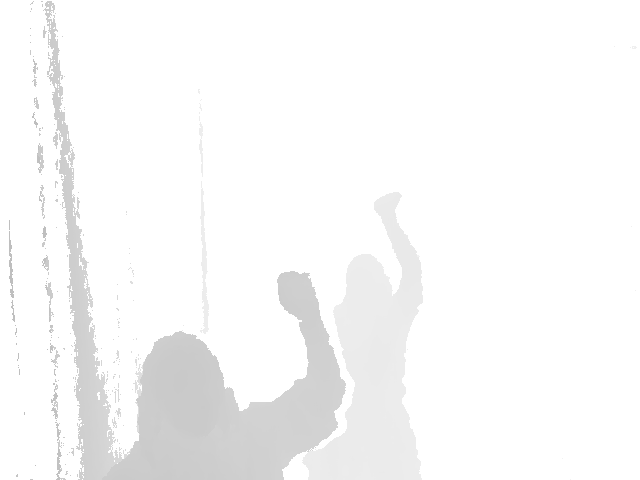hand: (277, 271, 324, 320), (374, 192, 403, 219)
head: (139, 332, 225, 443), (341, 255, 392, 308)
person: (93, 271, 347, 480), (301, 192, 424, 479)
